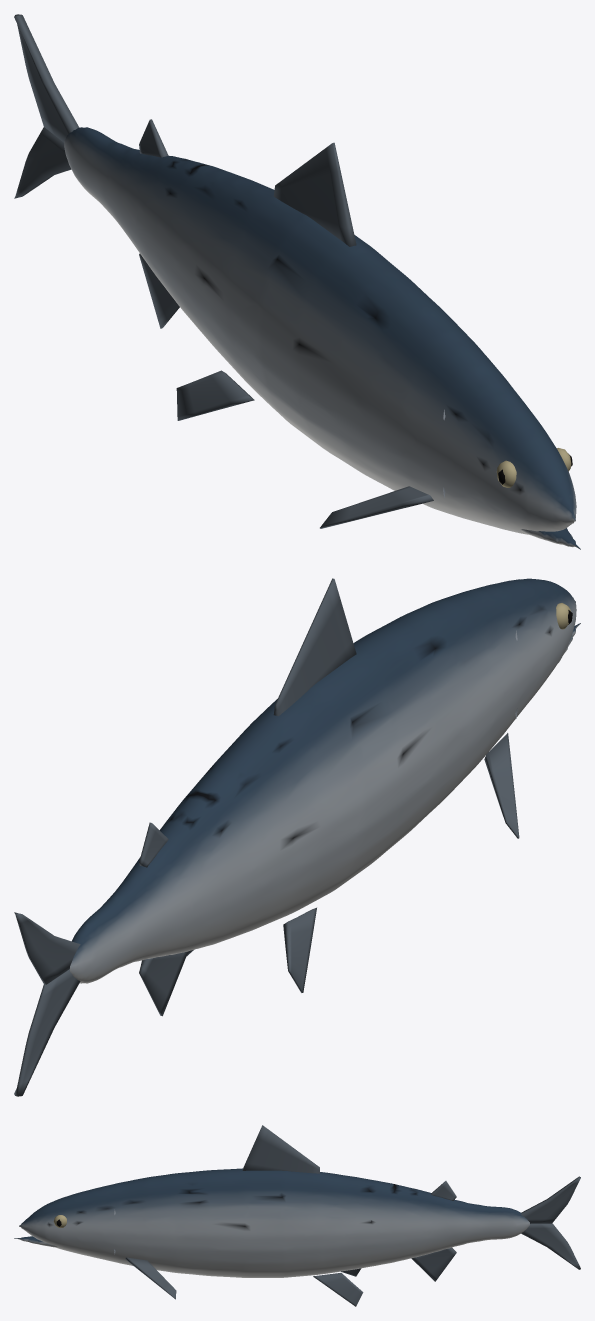
The model's file is SalmoSalar.fbx.
The picture shows the model from 3 angles, top to bottom: view 1: azimuth 30°, elevation 25°; view 2: azimuth 150°, elevation 25°; view 3: azimuth 270°, elevation 25°; orthographic projection. The views are drawn at different scales.
Visible parts, largest first — view 1: SalmoSalar; view 2: SalmoSalar; view 3: SalmoSalar.
Boxes of the visible parts, x1,y1,x2,y2 form: SalmoSalar: (14,14,580,549); SalmoSalar: (14,578,580,1096); SalmoSalar: (14,1125,580,1306).
Bounding box in the file's own units: 0.3221 × 0.5105 × 1.58.
